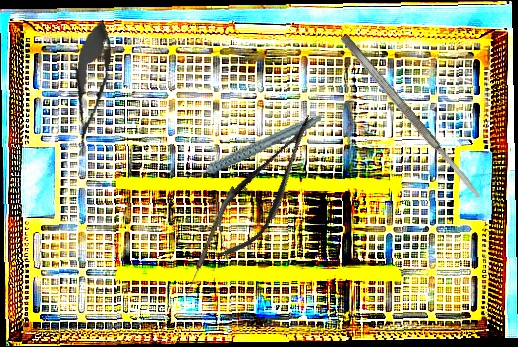Handpiece: (178, 113, 328, 180)
Micro Scissor: (195, 103, 336, 271), (63, 17, 118, 159)
Spatula Surgical: (338, 32, 484, 202)
Surgical Spoon: (184, 184, 235, 298)
